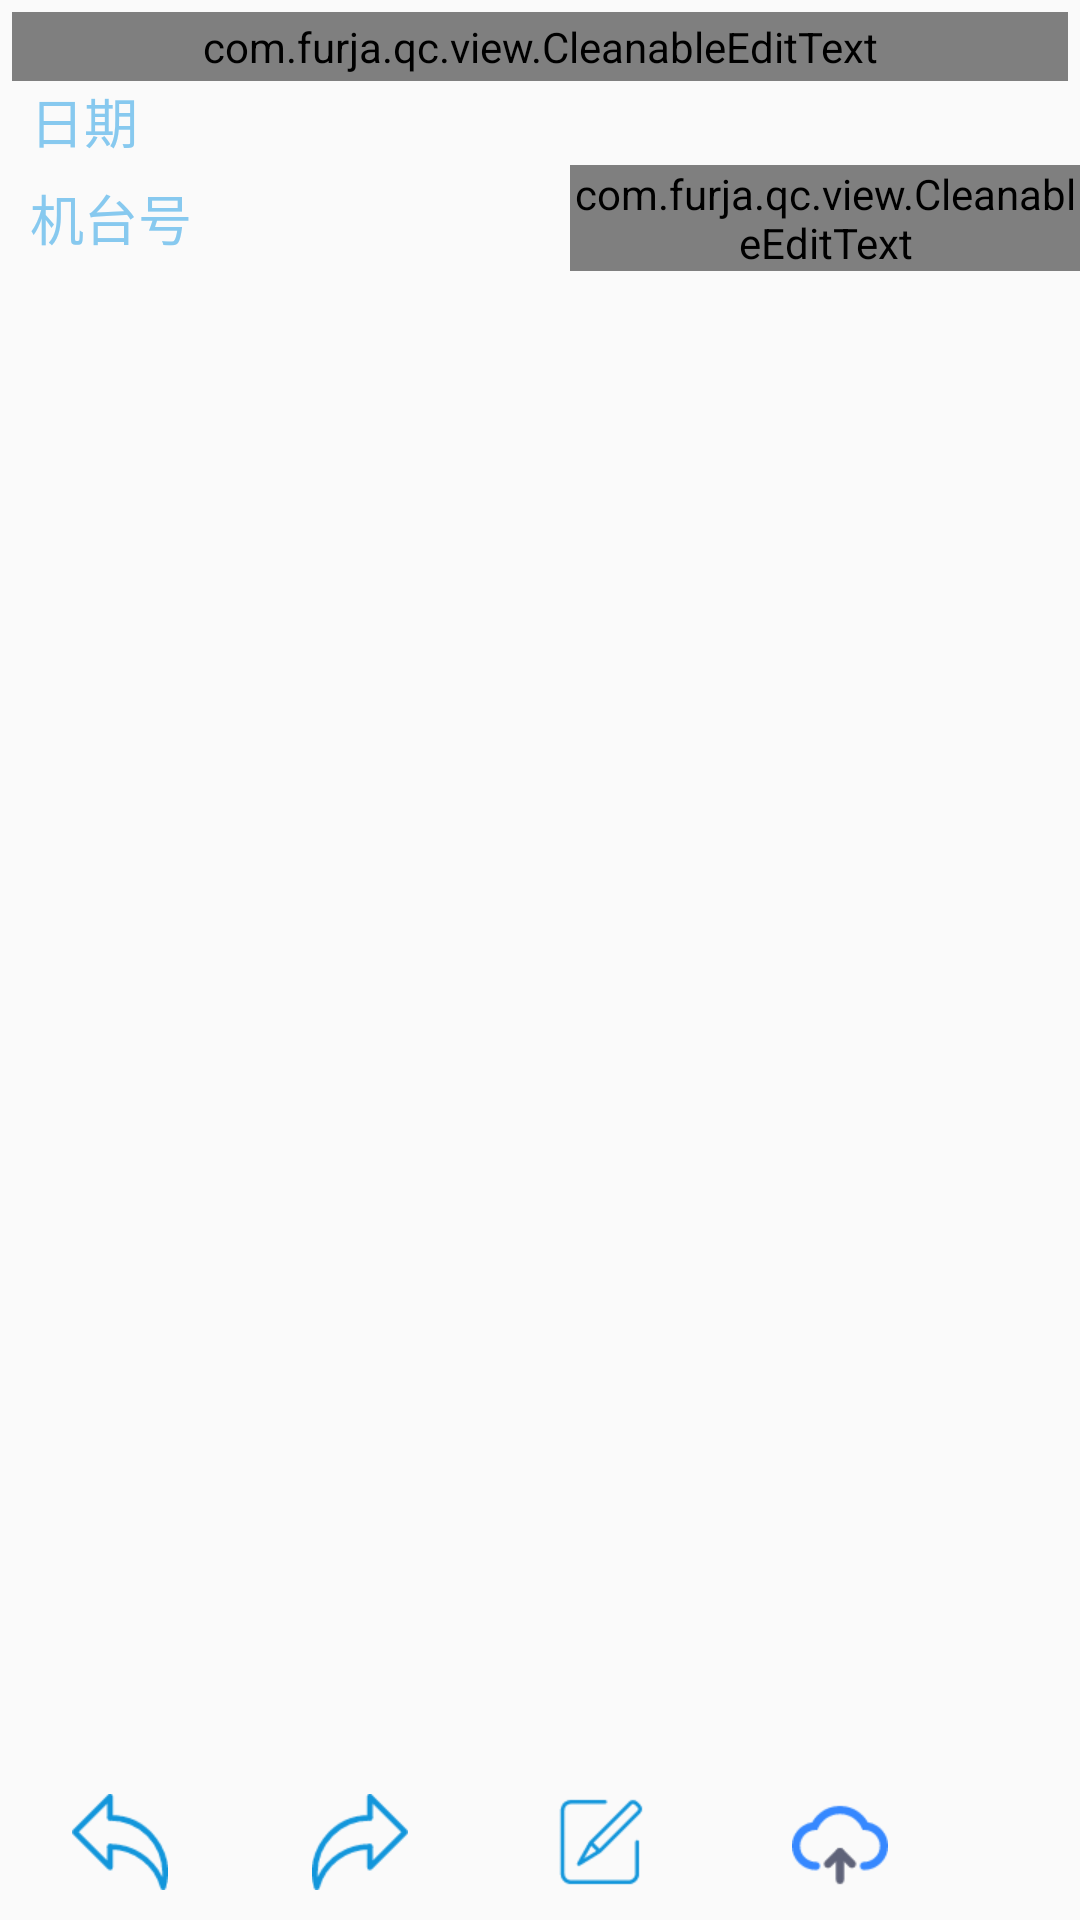

Named icons in this screenshot (1080x1920) and their centers, point (x, y):
edit src: point (601, 1842)
redo src: point (360, 1842)
undo src: point (120, 1842)
upload src: point (840, 1844)
